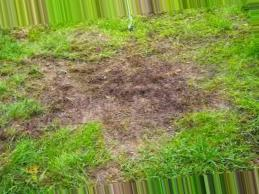patch: (50, 60, 168, 117)
